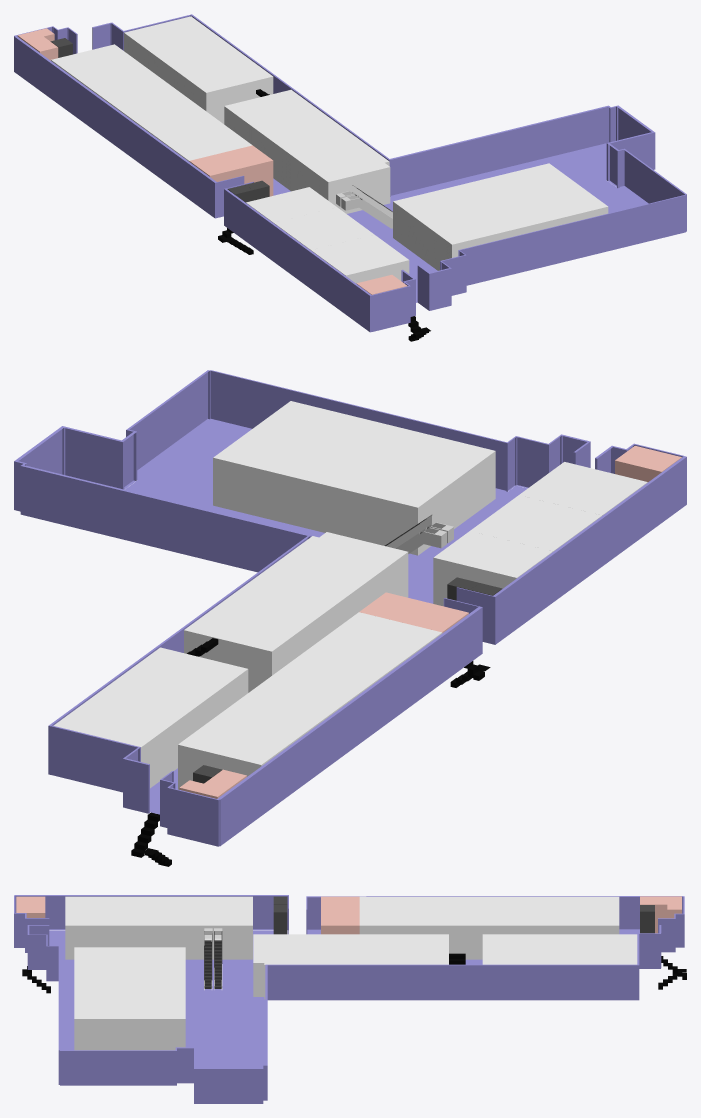
The picture shows the model from 3 angles, top to bottom: view 1: azimuth 30°, elevation 25°; view 2: azimuth 150°, elevation 25°; view 3: azimuth 270°, elevation 25°; orthographic projection. The views are drawn at different scales.
Parts seen in each view (by area): view 1: object, 10301, 10315, 10312, 10314, 10302, 10313, 10303, 10310, 10311, 10309, 10304 (+10 smaller); view 2: object, 10301, 10313, 10315, 10309, 10314, 10304, 10310, 10303, 10311, 10312, 10302 (+10 smaller); view 3: object, 10301, 10303, 10302, 10304, 10307, 10309, 10315, 10314, 10308, 10305, 10313 (+12 smaller).
Part boxes in pixels (bbox=[...]): object: bbox=[14, 14, 686, 332]; 10301: bbox=[393, 163, 608, 270]; 10315: bbox=[291, 139, 390, 213]; 10312: bbox=[179, 57, 273, 123]; 10314: bbox=[254, 112, 357, 190]; 10302: bbox=[311, 234, 409, 283]; 10313: bbox=[224, 89, 321, 146]; 10303: bbox=[274, 207, 373, 249]; 10310: bbox=[124, 16, 218, 70]; 10311: bbox=[151, 36, 245, 90]; 10309: bbox=[51, 44, 150, 86]; 10304: bbox=[246, 187, 336, 222]; object: bbox=[14, 370, 686, 846]; 10301: bbox=[213, 401, 495, 555]; 10313: bbox=[184, 601, 311, 692]; 10315: bbox=[272, 532, 408, 611]; 10309: bbox=[178, 710, 308, 789]; 10314: bbox=[224, 566, 359, 645]; 10304: bbox=[433, 531, 552, 606]; 10310: bbox=[53, 700, 176, 788]; 10303: bbox=[470, 495, 601, 551]; 10311: bbox=[89, 673, 212, 768]; 10312: bbox=[125, 647, 248, 718]; 10302: bbox=[519, 462, 647, 515]; object: bbox=[14, 895, 684, 1103]; 10301: bbox=[74, 947, 185, 1050]; 10303: bbox=[130, 896, 200, 959]; 10302: bbox=[65, 896, 130, 959]; 10304: bbox=[201, 896, 252, 959]; 10307: bbox=[450, 896, 500, 959]; 10309: bbox=[551, 896, 619, 934]; 10315: bbox=[253, 934, 322, 999]; 10314: bbox=[323, 934, 391, 964]; 10308: bbox=[500, 896, 551, 934]; 10305: bbox=[359, 896, 407, 934]; 10313: bbox=[391, 934, 448, 964].
Size of the model in its own units: 1.93 by 0.3846 by 3.14.
